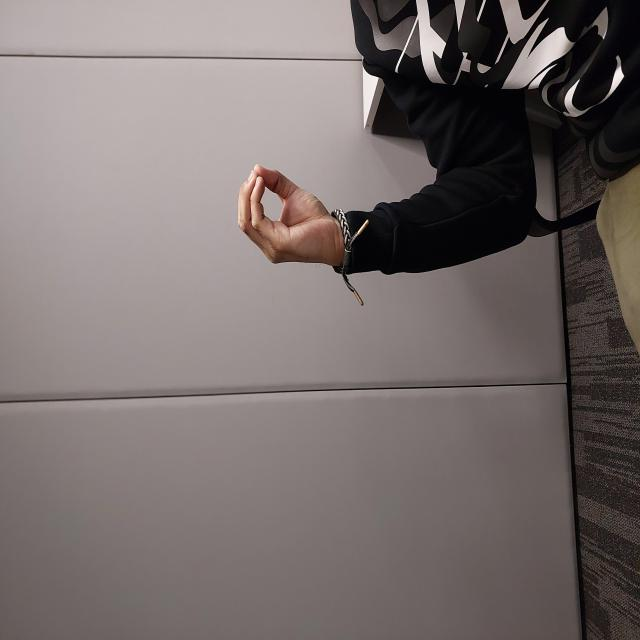O: (373, 236, 475, 339)
